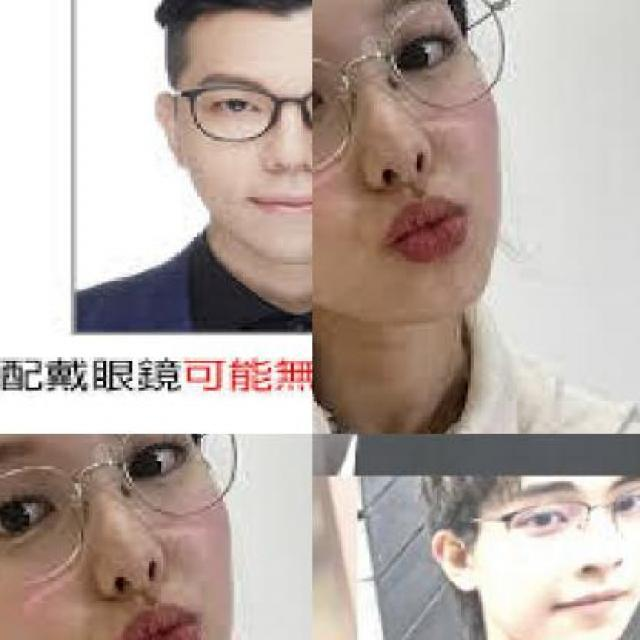mask: (0, 434, 245, 596), (312, 0, 512, 188), (454, 475, 640, 546), (164, 72, 310, 157)
